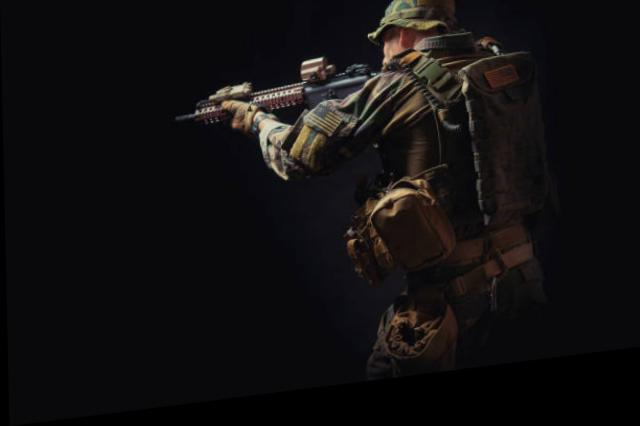other: (228, 0, 550, 388)
